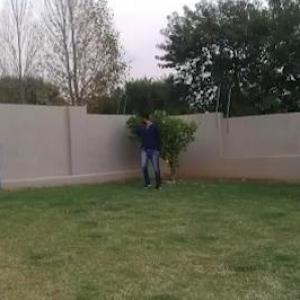follow: (139, 106, 160, 193)
